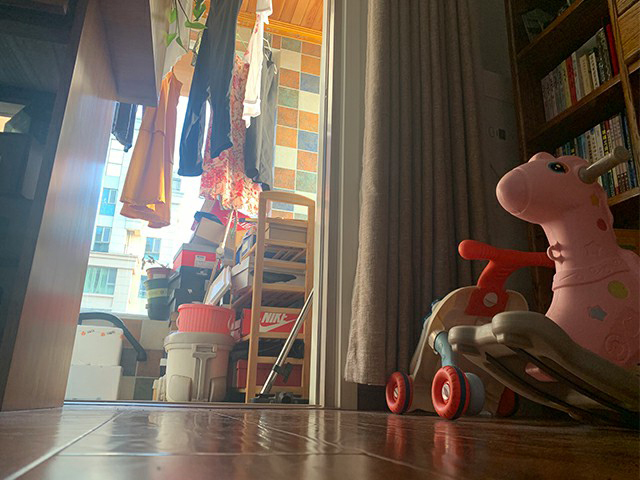curtain: (344, 2, 489, 389)
